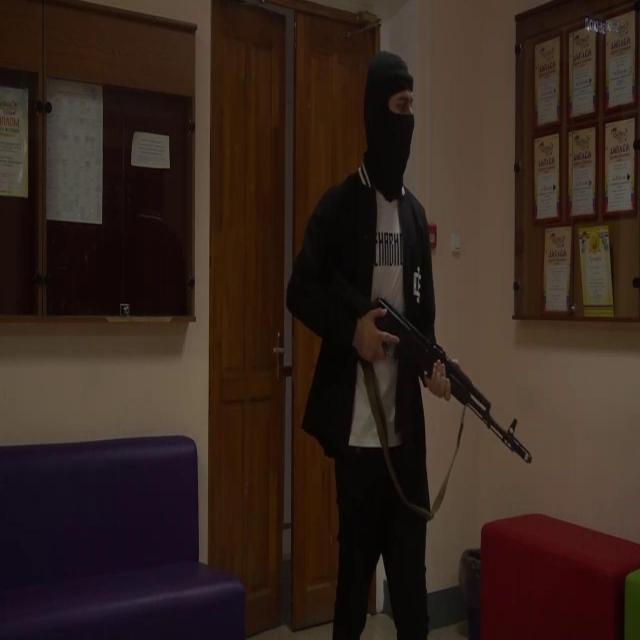pistol: (326, 266, 533, 466)
